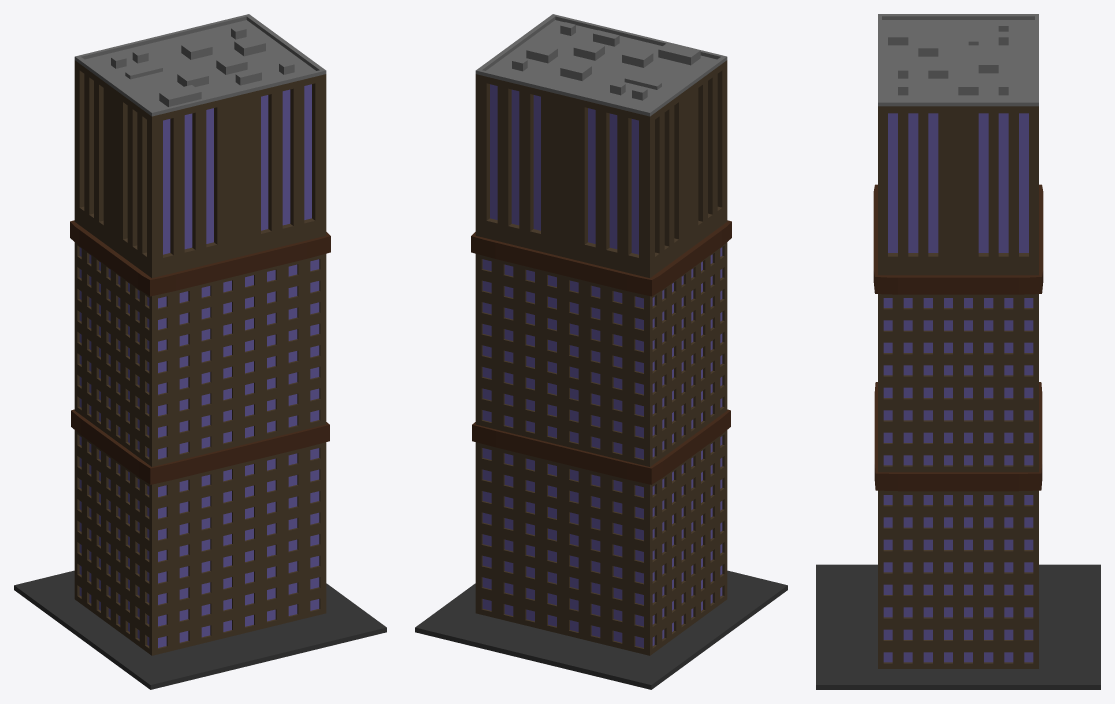
3 views of the same model, side by side, from view 1: azimuth 30°, elevation 25°; view 2: azimuth 150°, elevation 25°; view 3: azimuth 270°, elevation 25° (orthographic). The views are drawn at different scales.
Parts seen in each view (by area): view 1: Cube.017, Cube.016, Floor.010; view 2: Cube.017, Cube.016, Floor.010; view 3: Cube.017, Cube.016, Floor.010.
Boxes of the visible parts, x1=… form: Cube.017: x1=70, y1=14, x2=330, y2=466; Cube.016: x1=71, y1=409, x2=329, y2=655; Floor.010: x1=14, y1=570, x2=386, y2=689; Cube.017: x1=471, y1=14, x2=731, y2=466; Cube.016: x1=472, y1=409, x2=730, y2=655; Floor.010: x1=415, y1=570, x2=787, y2=689; Cube.017: x1=873, y1=14, x2=1043, y2=472; Cube.016: x1=874, y1=382, x2=1042, y2=668; Floor.010: x1=816, y1=564, x2=1100, y2=689.
Bounding box in the file's own units: 800 × 1785 × 800.
